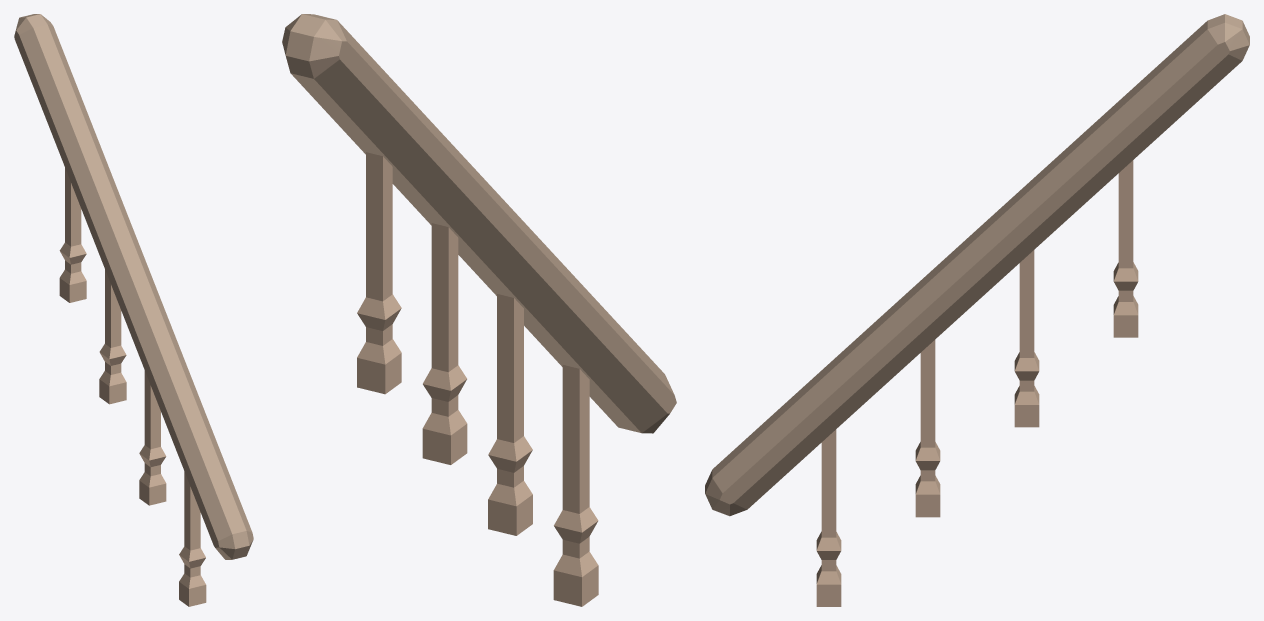
The model's file is Structure_Stairs_Railing_Rising_Straight.fbx.
3 views of the same model, side by side, from view 1: azimuth 30°, elevation 25°; view 2: azimuth 150°, elevation 25°; view 3: azimuth 270°, elevation 25° (orthographic). The views are drawn at different scales.
Parts seen in each view (by area): view 1: object1.109; view 2: object1.109; view 3: object1.109.
Part boxes in pixels (x1=…): object1.109: x1=14, y1=14, x2=253, y2=606; object1.109: x1=282, y1=14, x2=676, y2=606; object1.109: x1=705, y1=14, x2=1249, y2=606.
Size of the model in its own units: 10 by 130 by 110.
